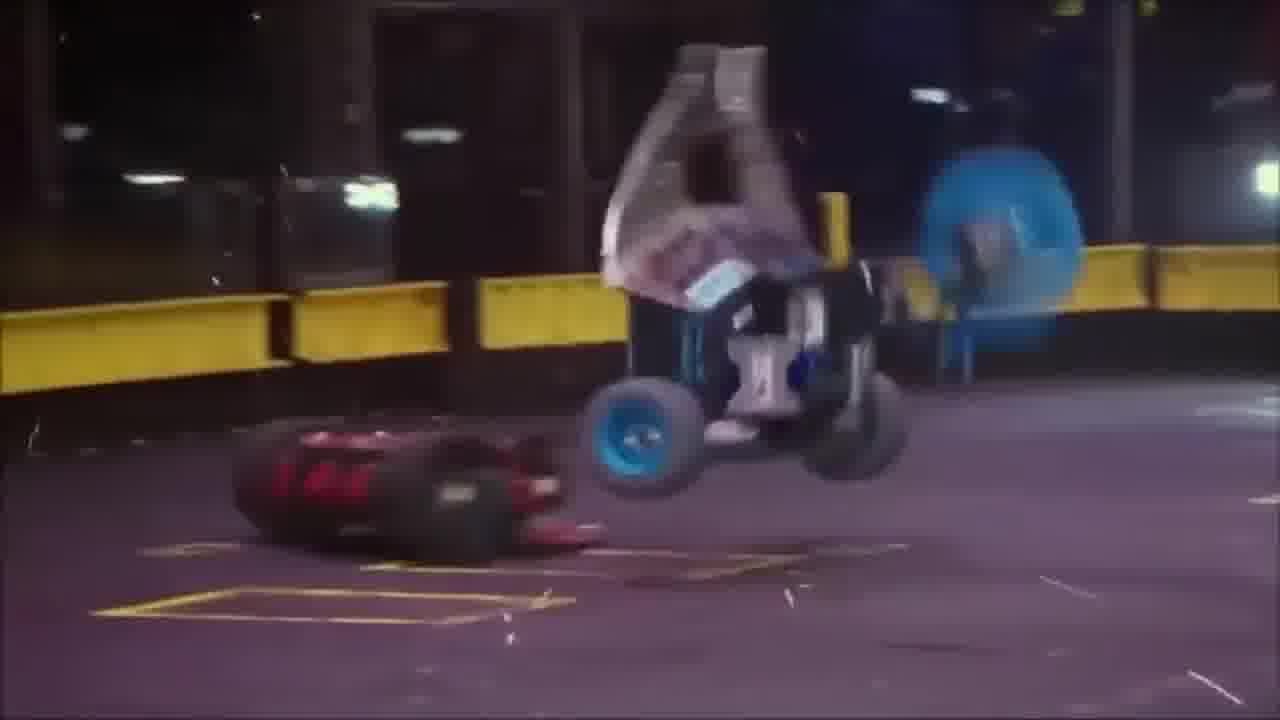combatbot: (582, 55, 907, 497), (235, 414, 583, 564)
